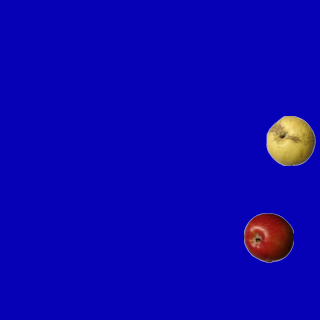Apple Braeburn: (243, 212, 293, 262)
Apple Golden 1: (265, 115, 315, 165)
